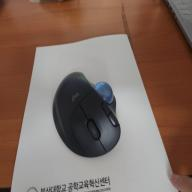mouse: (46, 63, 127, 158)
